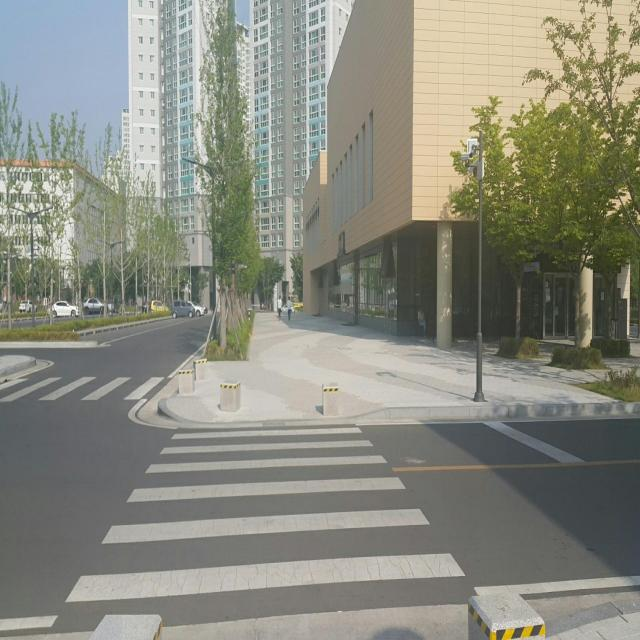횡단보도: (62, 422, 468, 607), (0, 372, 166, 407)
